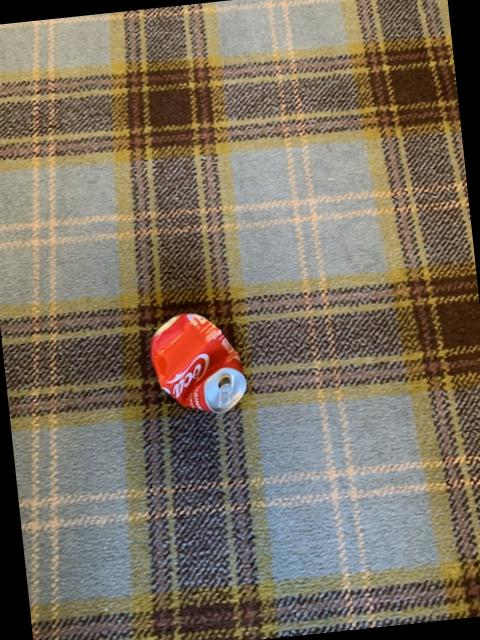metal: (152, 314, 246, 413)
